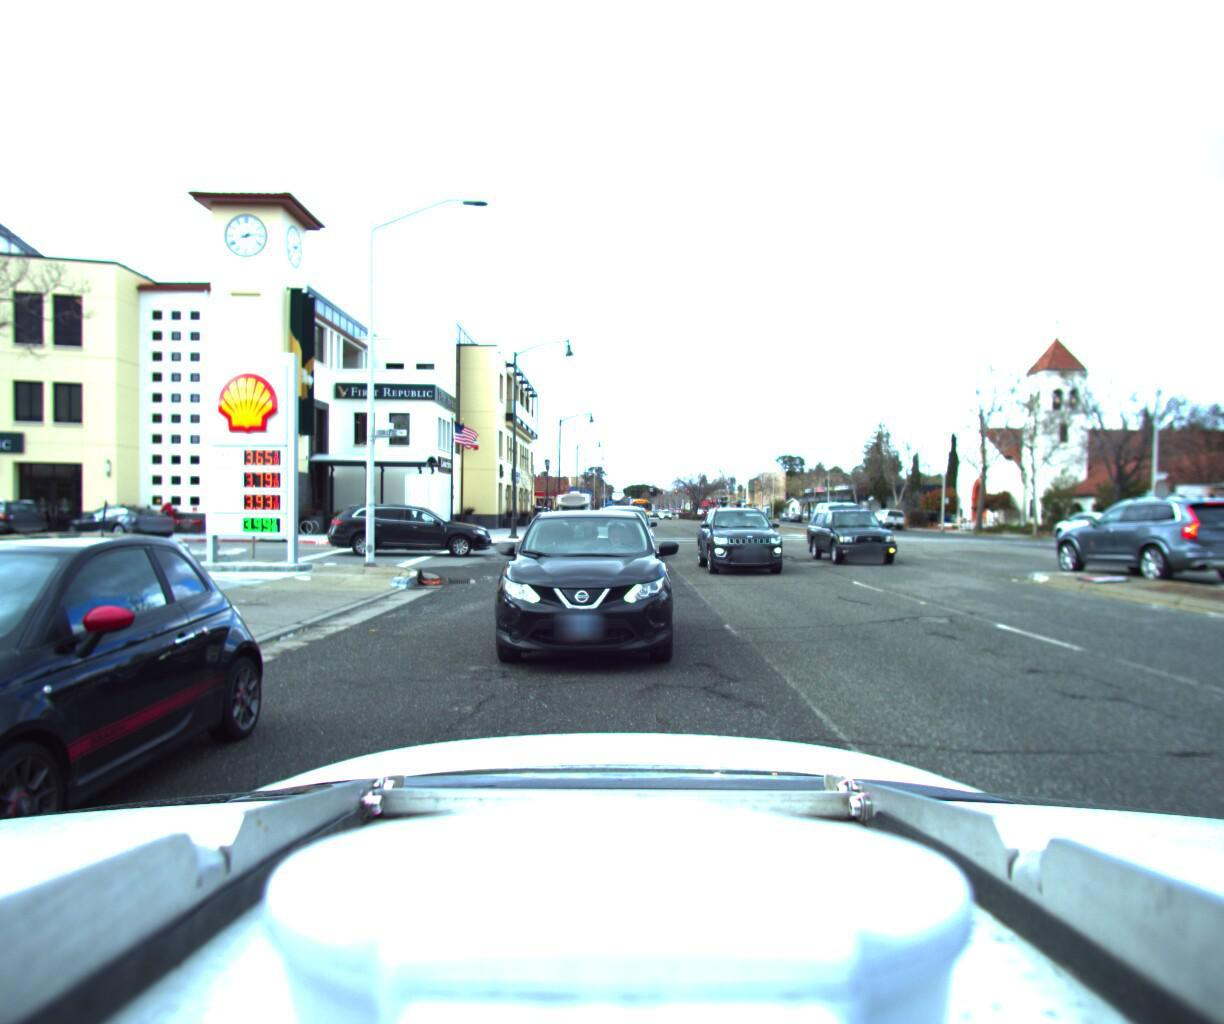car: (0, 523, 277, 998), (481, 501, 673, 688), (1039, 482, 1224, 586), (296, 495, 465, 551), (809, 490, 921, 561), (691, 501, 791, 573), (54, 496, 184, 541), (1044, 503, 1134, 540), (596, 503, 658, 553), (0, 494, 56, 540), (555, 481, 593, 524), (865, 500, 906, 523)
